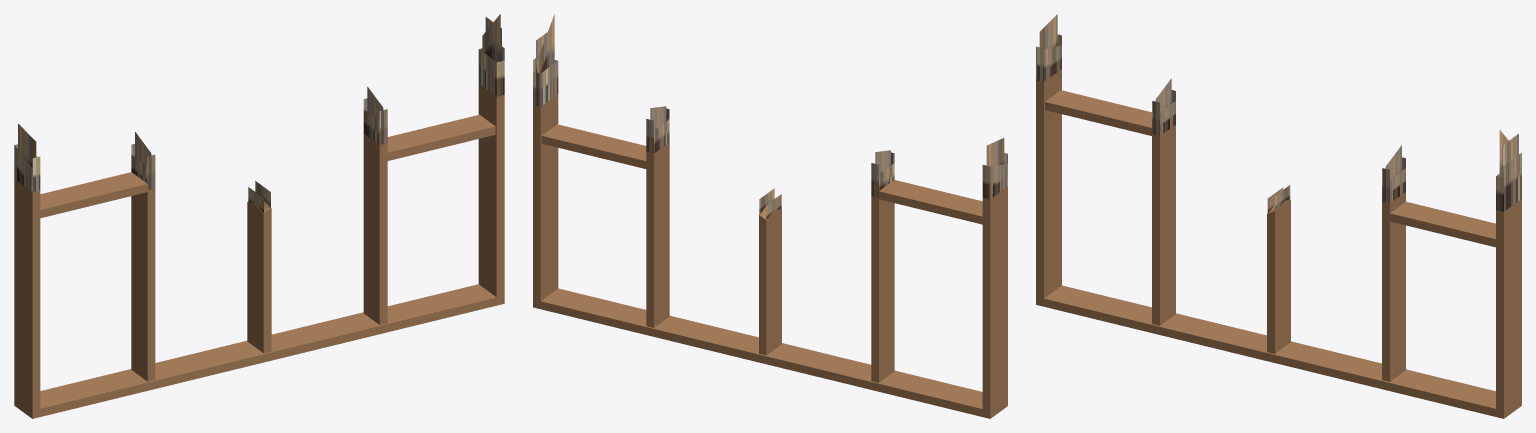
File: DBK_WoodFrame_Tile_A.fbx
The picture shows the model from 3 angles, left to right: view 1: azimuth 30°, elevation 25°; view 2: azimuth 150°, elevation 25°; view 3: azimuth 330°, elevation 25°; orthographic projection. The views are drawn at different scales.
Parts seen in each view (by area): view 1: DBK_WoodFrame_Tile_A; view 2: DBK_WoodFrame_Tile_A; view 3: DBK_WoodFrame_Tile_A.
Boxes of the visible parts, bbox=[...] form: DBK_WoodFrame_Tile_A: bbox=[14, 14, 504, 418]; DBK_WoodFrame_Tile_A: bbox=[533, 14, 1007, 418]; DBK_WoodFrame_Tile_A: bbox=[1036, 14, 1521, 418].
Bounding box in the file's own units: 300 × 177 × 20.
